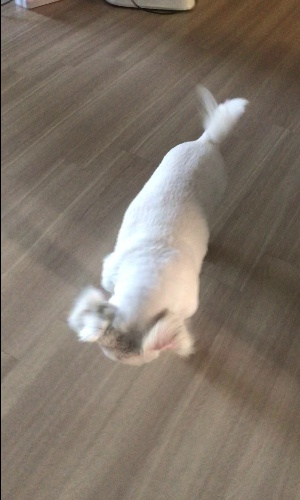ddubi: (62, 81, 252, 371)
